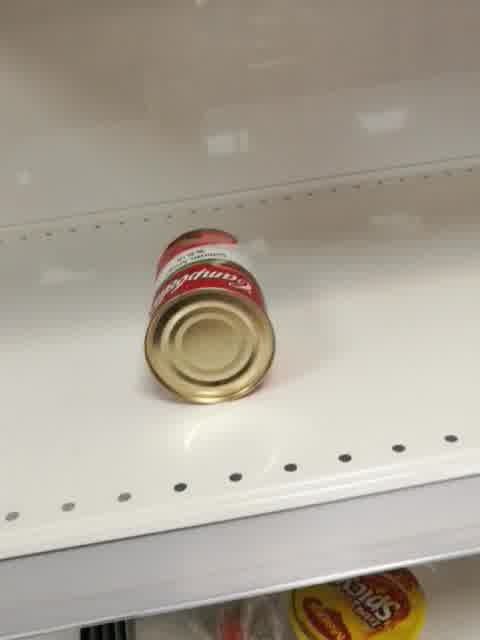tomatosoup: (141, 226, 276, 404)
